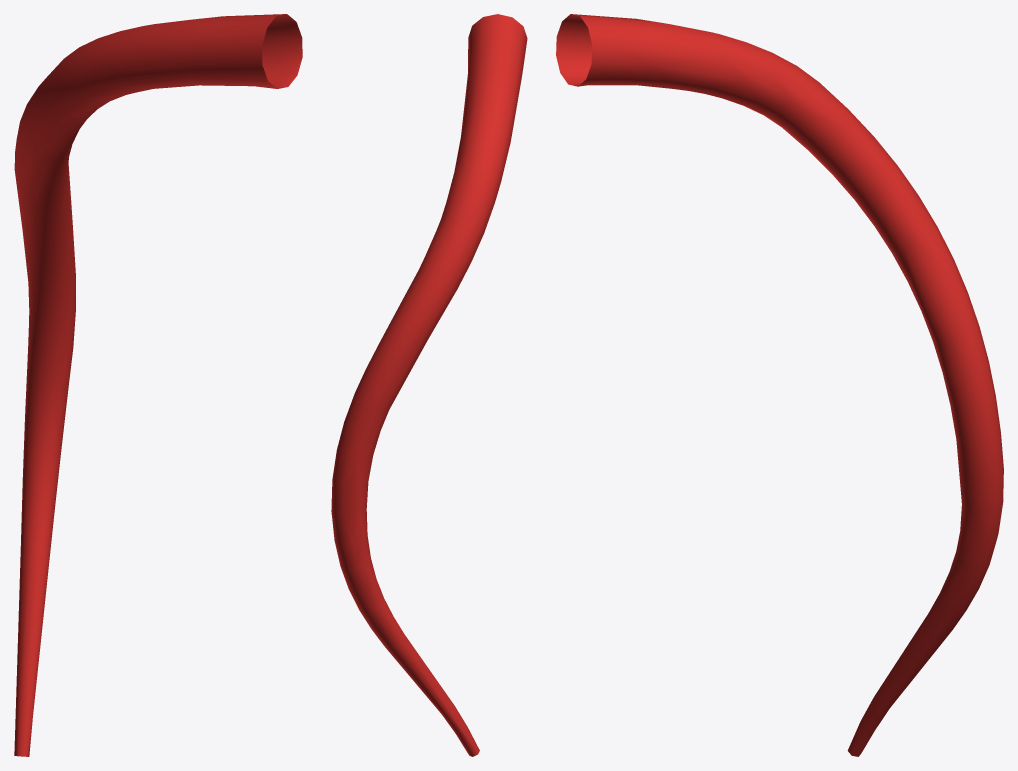
File: circulatorio-branch-to-angular-gyrus-r.glb
3 views of the same model, side by side, from view 1: azimuth 30°, elevation 25°; view 2: azimuth 150°, elevation 25°; view 3: azimuth 270°, elevation 25° (orthographic). The views are drawn at different scales.
Visible parts, largest first — view 1: Branch to angular gyrus.r; view 2: Branch to angular gyrus.r; view 3: Branch to angular gyrus.r.
Part boxes in pixels (left/top/right/bottom): Branch to angular gyrus.r: left=14, top=14, right=302, bottom=756; Branch to angular gyrus.r: left=331, top=14, right=527, bottom=756; Branch to angular gyrus.r: left=556, top=14, right=1003, bottom=756.
Bounding box in the file's own units: 0.00228 × 0.0119 × 0.0061.
